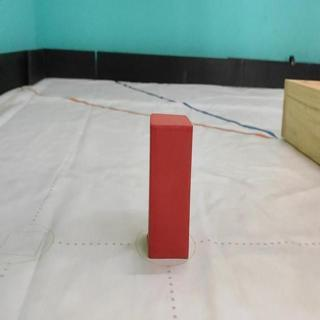redbox: (149, 112, 191, 259)
